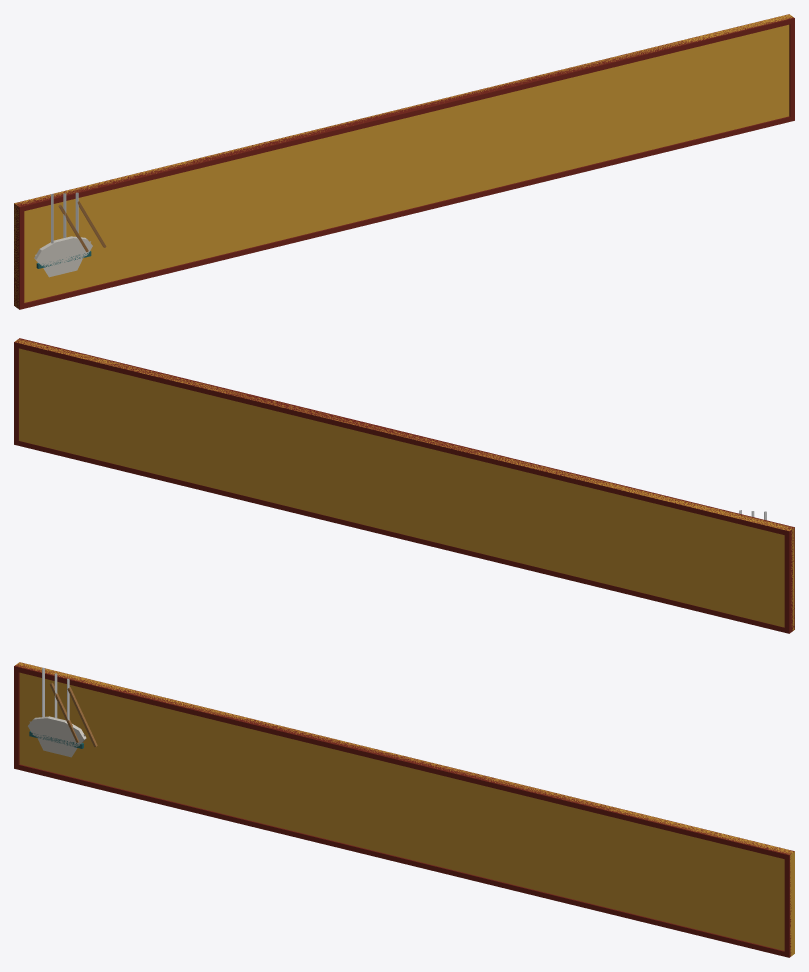
File: bang_pho_ba_tam_60.glb
The picture shows the model from 3 angles, top to bottom: view 1: azimuth 30°, elevation 25°; view 2: azimuth 150°, elevation 25°; view 3: azimuth 330°, elevation 25°; orthographic projection.
Parts seen in each view (by area): view 1: bang_pho_ba_tam_60; view 2: bang_pho_ba_tam_60; view 3: bang_pho_ba_tam_60.
Part boxes in pixels (x1,y1,x2,y2): bang_pho_ba_tam_60: (14,14,794,309); bang_pho_ba_tam_60: (14,338,794,633); bang_pho_ba_tam_60: (14,662,794,957).
Size of the model in its own units: 5.7 by 0.766 by 0.1024.
